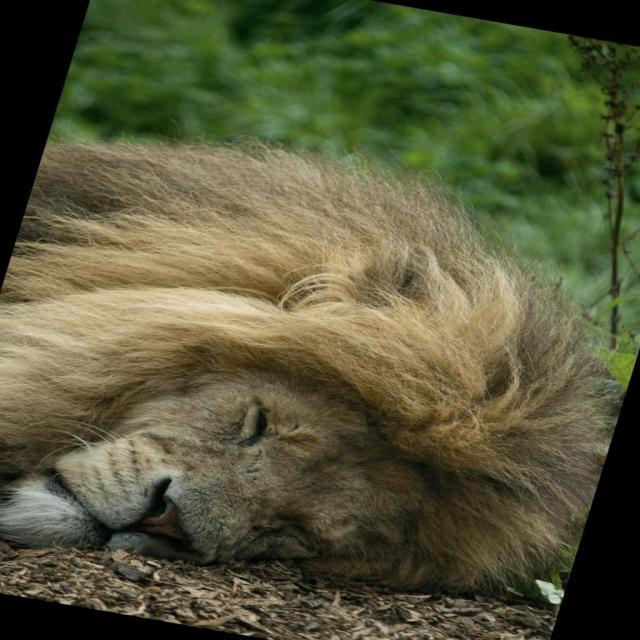Lion: (0, 95, 639, 639)
